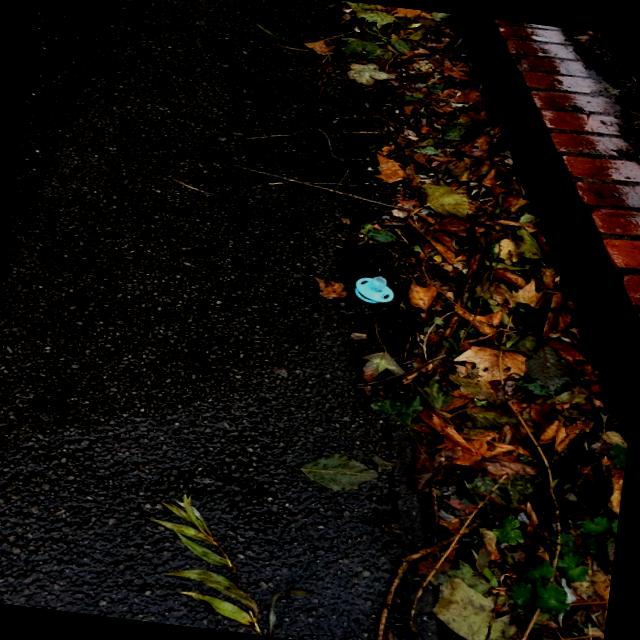Trash: (353, 264, 401, 311)
